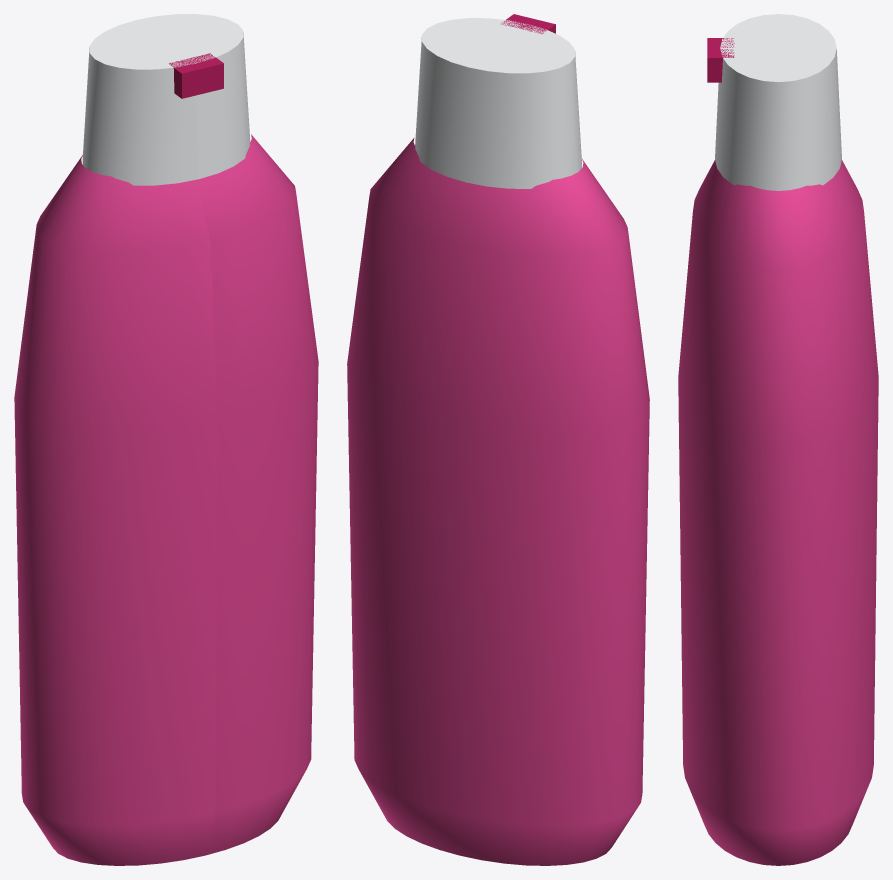
File: shampoo-bottle.glb
3 renders of one model, left to right at view 1: azimuth 30°, elevation 25°; view 2: azimuth 150°, elevation 25°; view 3: azimuth 270°, elevation 25°, orthographic. The views are drawn at different scales.
Visible parts, largest first — view 1: Shampoo_Body, Flip_Cap, Cap_Notch; view 2: Shampoo_Body, Flip_Cap, Cap_Notch; view 3: Shampoo_Body, Flip_Cap, Cap_Notch.
Boxes of the visible parts, x1=… form: Shampoo_Body: x1=14, y1=134, x2=318, y2=865; Flip_Cap: x1=82, y1=14, x2=250, y2=185; Cap_Notch: x1=169, y1=53, x2=223, y2=98; Shampoo_Body: x1=347, y1=138, x2=649, y2=865; Flip_Cap: x1=415, y1=18, x2=581, y2=188; Cap_Notch: x1=501, y1=14, x2=555, y2=34; Shampoo_Body: x1=678, y1=160, x2=878, y2=865; Flip_Cap: x1=715, y1=14, x2=841, y2=190; Cap_Notch: x1=707, y1=38, x2=734, y2=82.
Bounding box in the file's own units: 0.0951 × 0.249 × 0.059.
